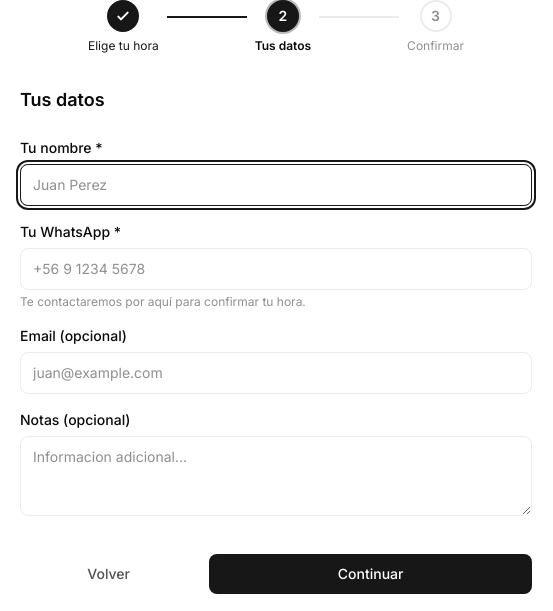
it: BookingWizard › advances to step 2 when form is valid
The width and height of the screenshot is (553, 611).
In the field with placeholder "Juan Perez": (276,185) [20,164,532,206], type "Ana Torres"
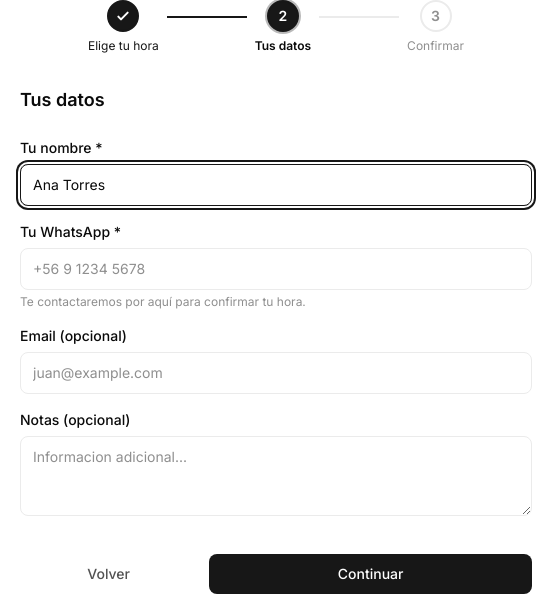
In the field with placeholder "+56 9 1234 5678": (276,269) [20,248,532,290], type "9 1234 5678"
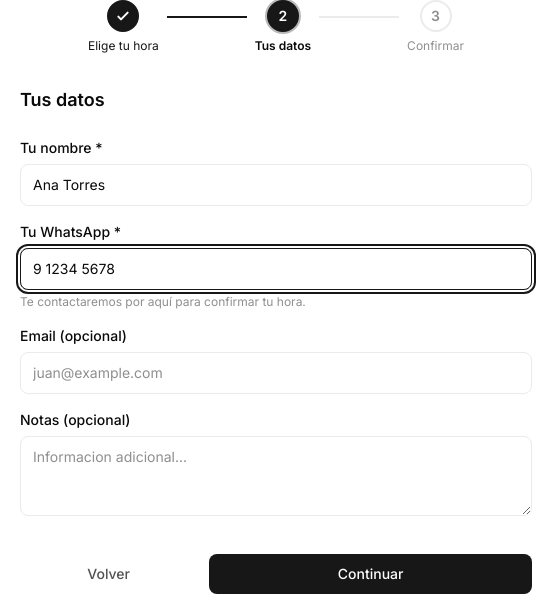
Click the button "Continuar": (371,574) [209,554,532,594]
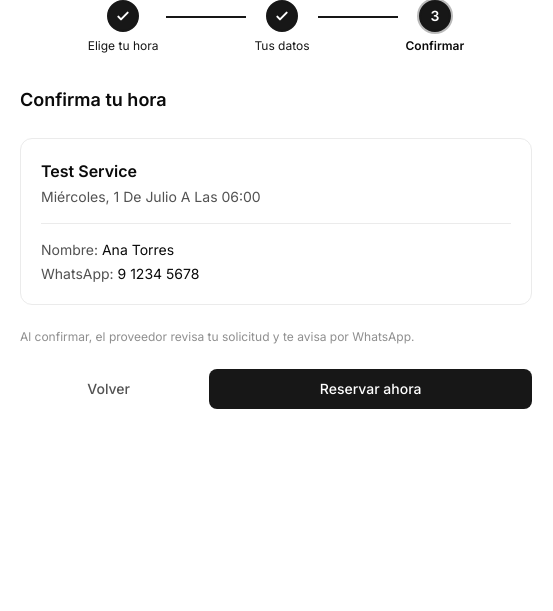
Expected: the heading "Confirma tu hora" is shown, [20,89,167,110]
Expected: the button "Reservar ahora" is shown, [209,369,532,409]
